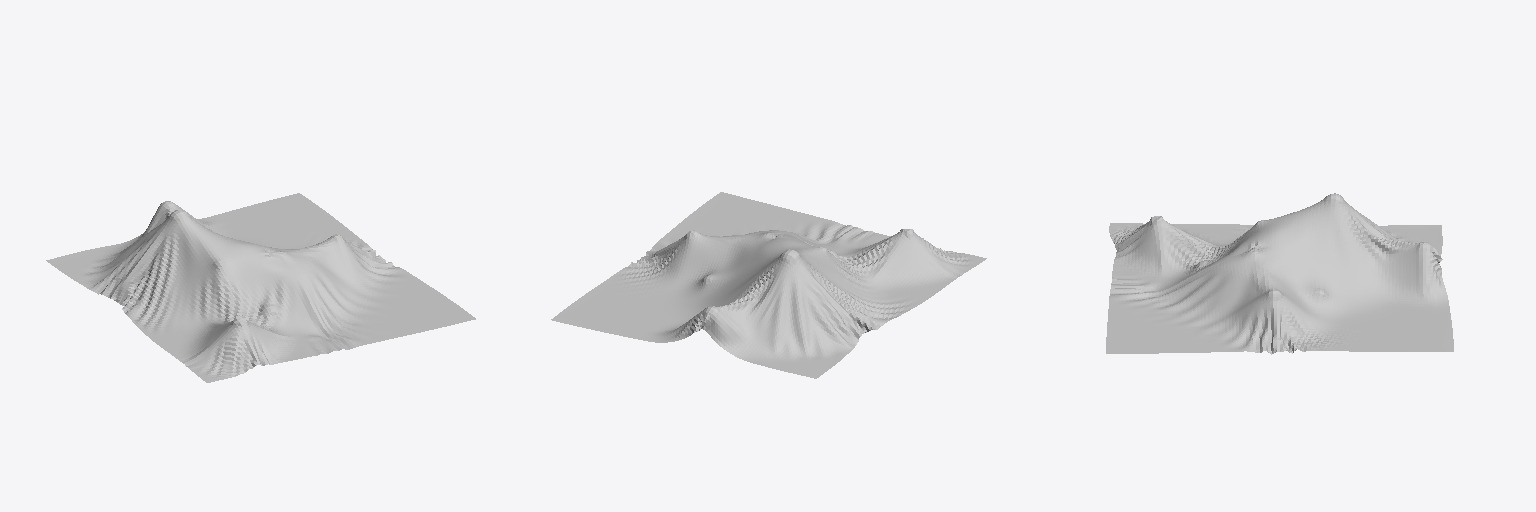
File: drapé2.obj
3 views of the same model, side by side, from view 1: azimuth 30°, elevation 25°; view 2: azimuth 150°, elevation 25°; view 3: azimuth 270°, elevation 25° (orthographic).
Parts seen in each view (by area): view 1: Plane003; view 2: Plane003; view 3: Plane003.
Boxes of the visible parts, <box> form: Plane003: <box>46,193,475,382</box>; Plane003: <box>551,192,986,378</box>; Plane003: <box>1106,193,1453,354</box>.
Size of the model in its own units: 213 by 56.63 by 239.